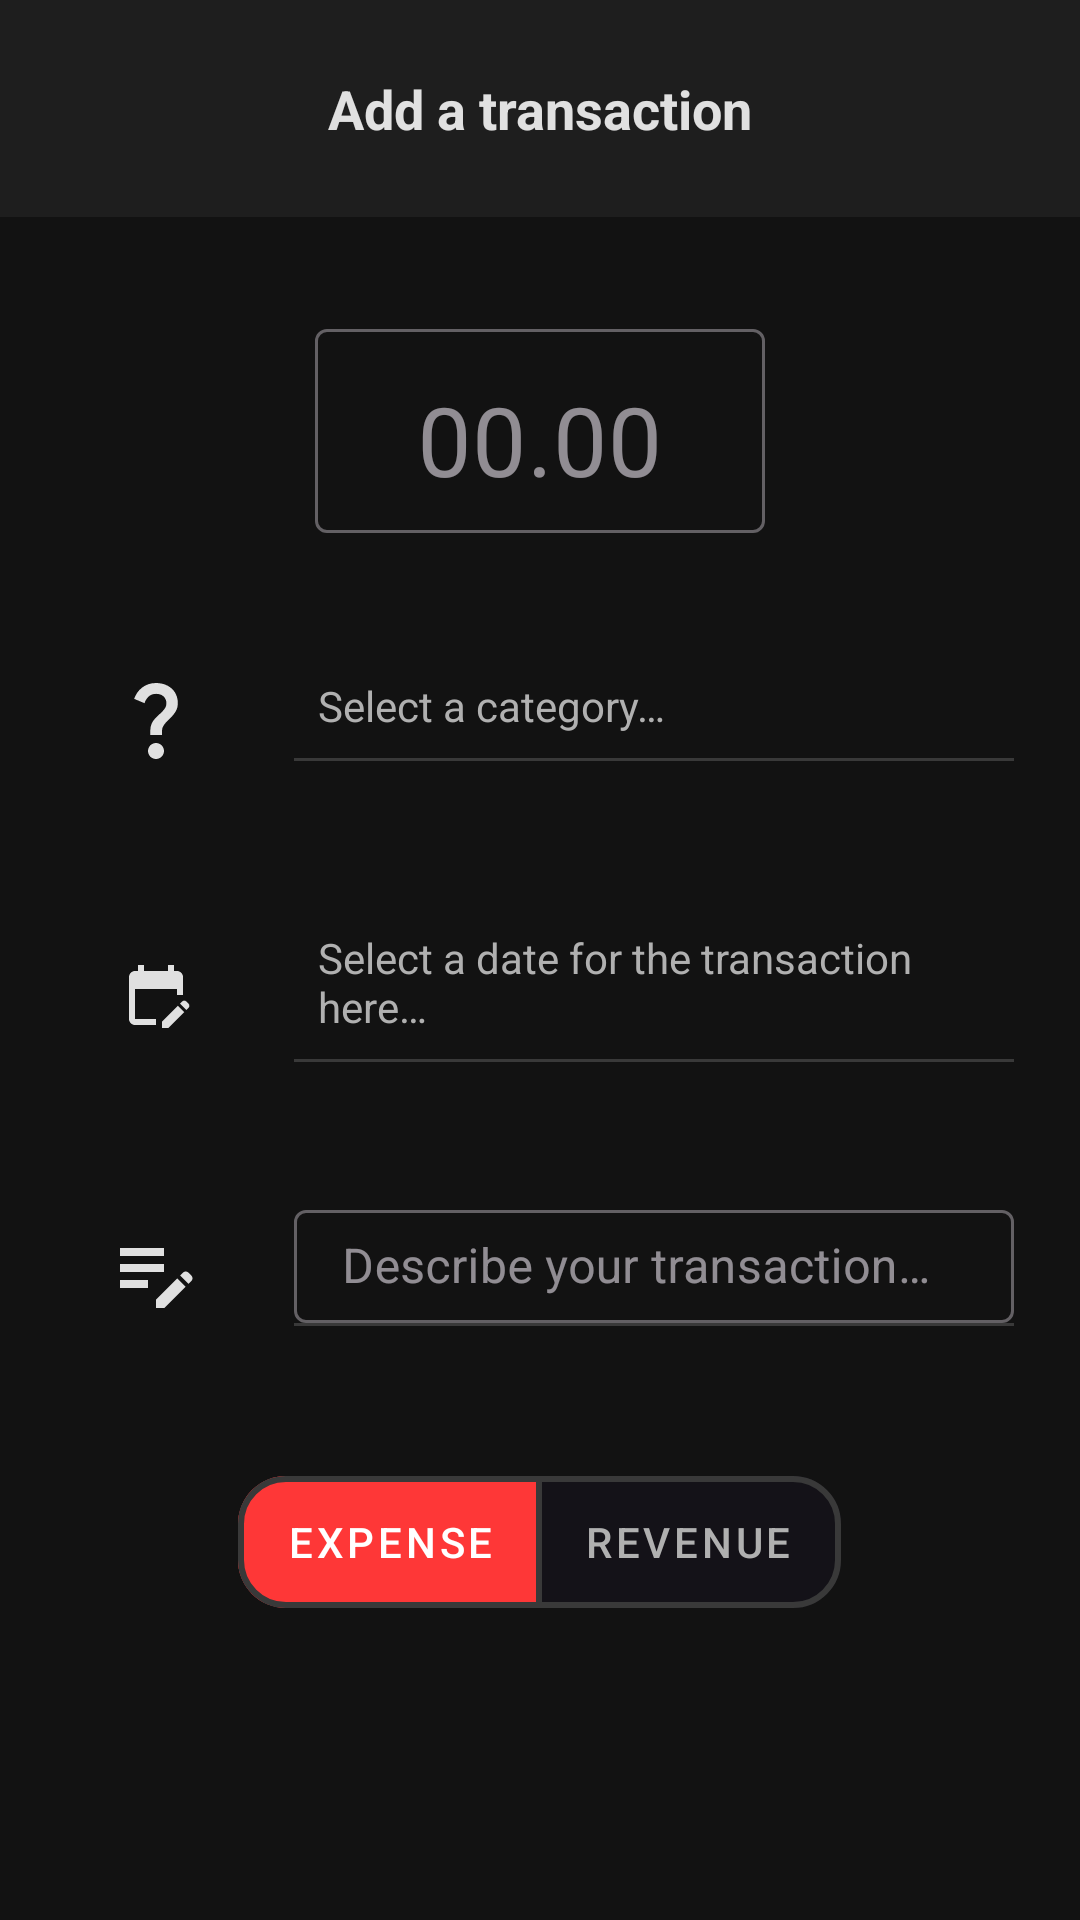

Icon bounding boxes for this 1080x1920 phone screenshot, format (x1, y1, x2, y2):
Select a date for your expense: (129, 965, 190, 1028)
Write notes to describe your transaction: (120, 1248, 193, 1308)
